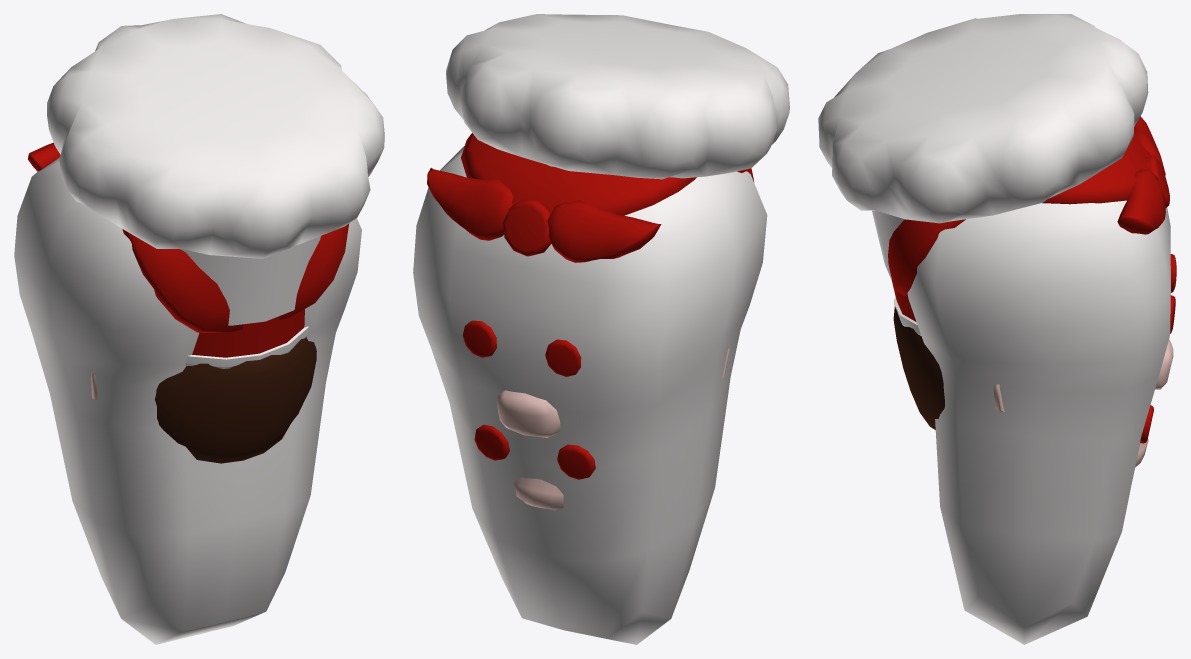
Rendered from PlayerCharacter_Head_Torso.fbx.
The picture shows the model from 3 angles, left to right: view 1: azimuth 30°, elevation 25°; view 2: azimuth 150°, elevation 25°; view 3: azimuth 270°, elevation 25°; orthographic projection. The views are drawn at different scales.
Parts seen in each view (by area): view 1: Player_Cook_Head, Player_Cook_Torso; view 2: Player_Cook_Torso, Player_Cook_Head; view 3: Player_Cook_Torso, Player_Cook_Head.
Boxes of the visible parts, bbox=[...] form: Player_Cook_Head: bbox=[47, 14, 384, 463]; Player_Cook_Torso: bbox=[14, 142, 361, 644]; Player_Cook_Torso: bbox=[413, 133, 767, 644]; Player_Cook_Head: bbox=[446, 14, 789, 510]; Player_Cook_Torso: bbox=[888, 116, 1176, 644]; Player_Cook_Head: bbox=[818, 14, 1173, 467].
Bounding box in the file's own units: 3.35 × 6.37 × 3.59.
